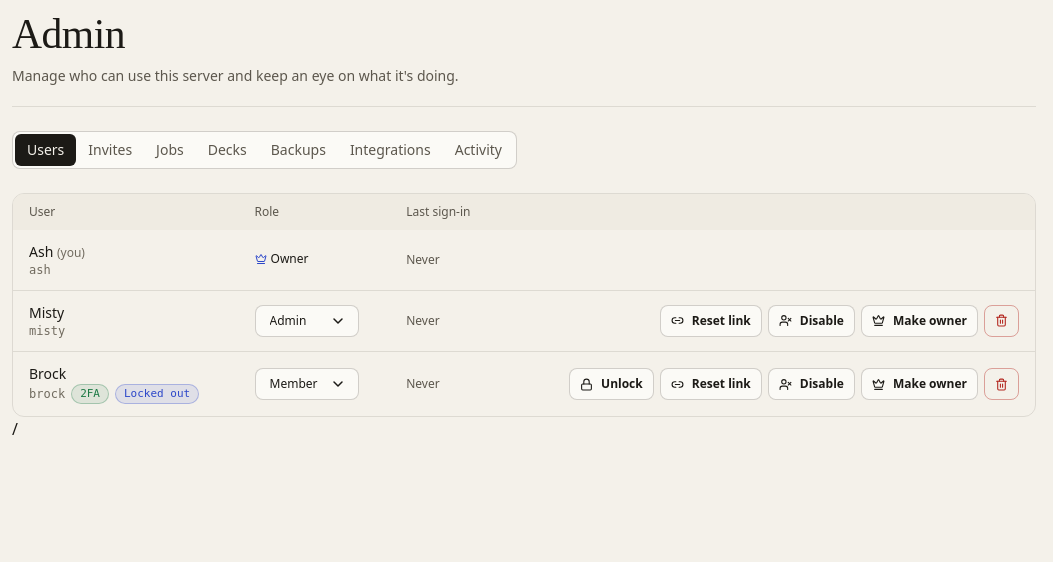
Invites › creates an invite and shows the link once
The image size is (1053, 562).
Click the radio button labelled "Invites": (110, 150) [76, 134, 144, 166]
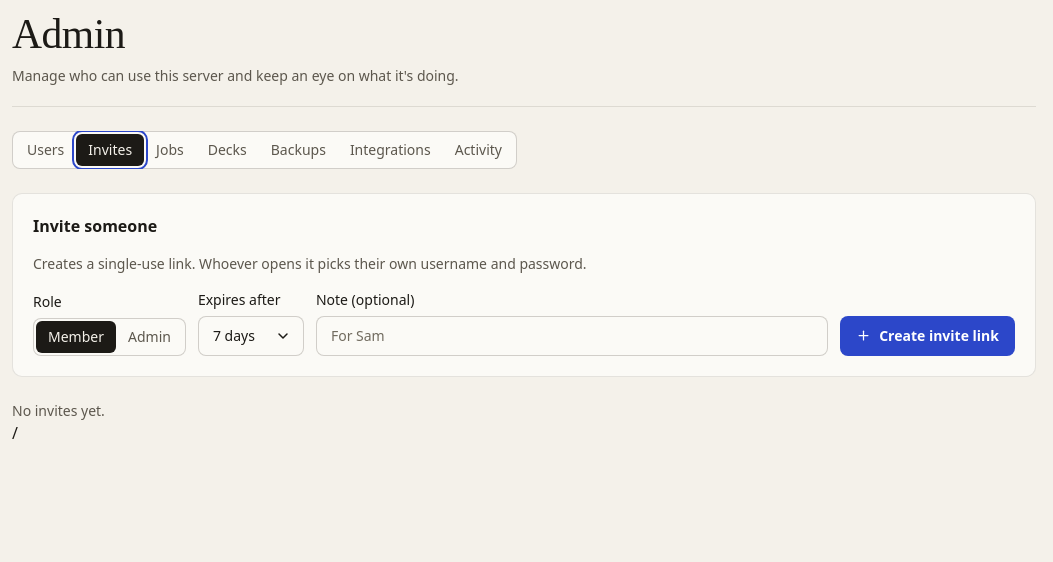
Check: the text "No invites yet." is shown, box [12, 401, 105, 420]
Click the radio button labelled "Admin": (149, 337) [116, 321, 183, 353]
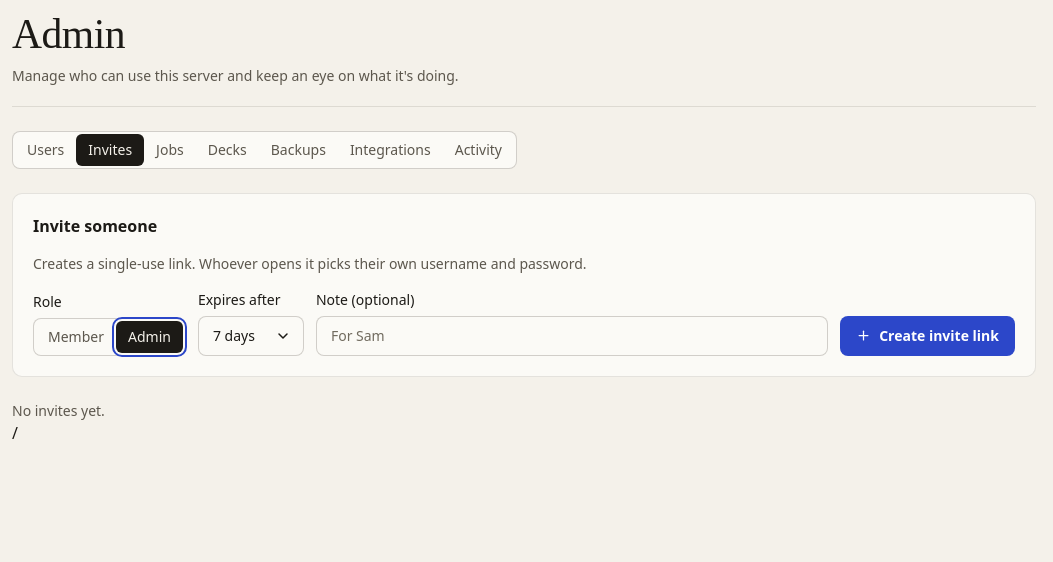
Select "3 days" in the dropdown labelled "Expires after": (251, 336) [198, 316, 304, 356]
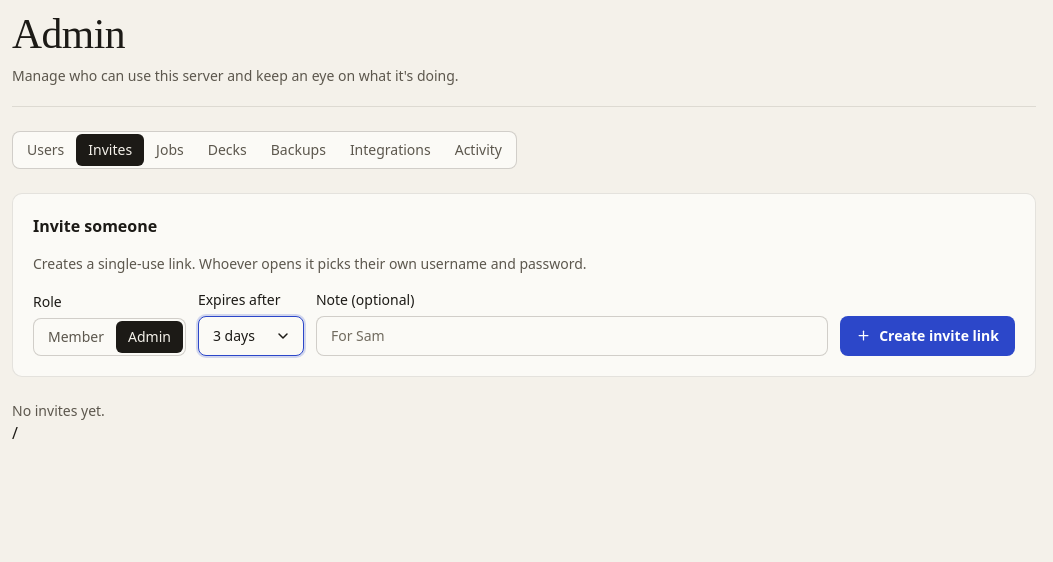
In the field labelled "Note (optional)": (572, 336) [316, 316, 828, 356], type " For Sam "
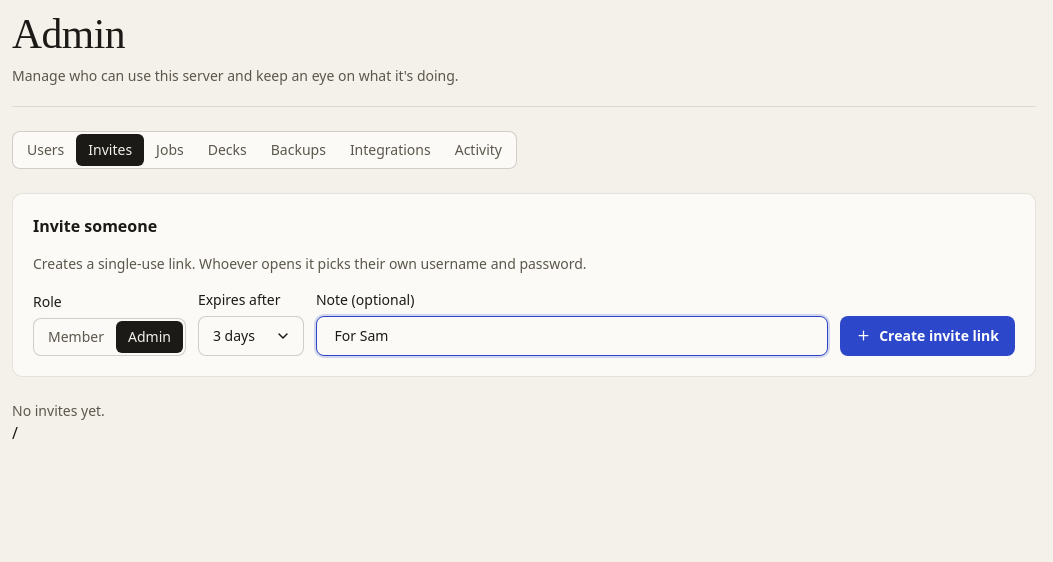
Click the button "Create invite link": (928, 336) [840, 316, 1015, 356]
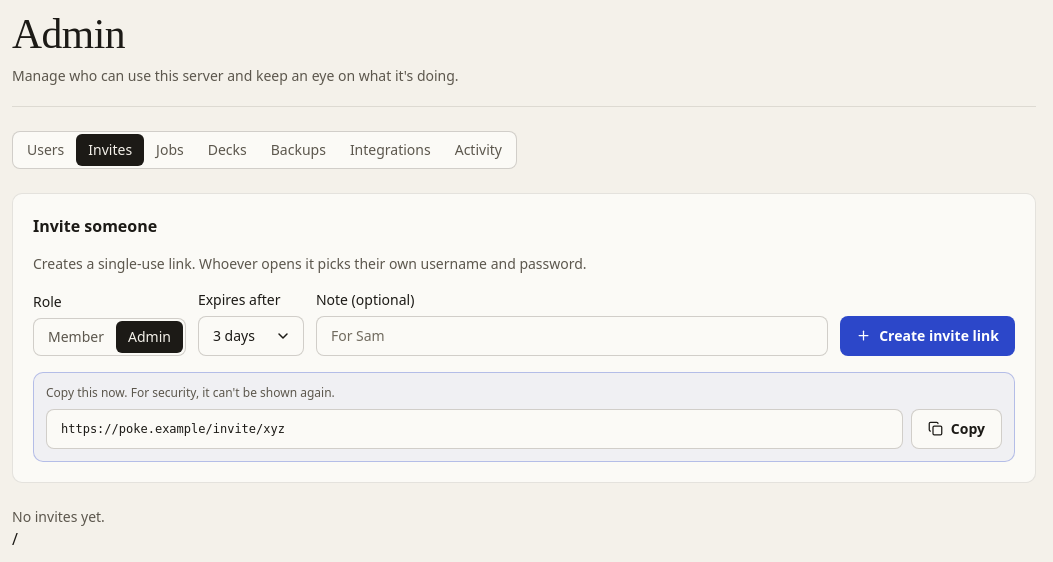
Check: the field showing "https://poke.example/invite/xyz" is shown, box [46, 409, 903, 449]
